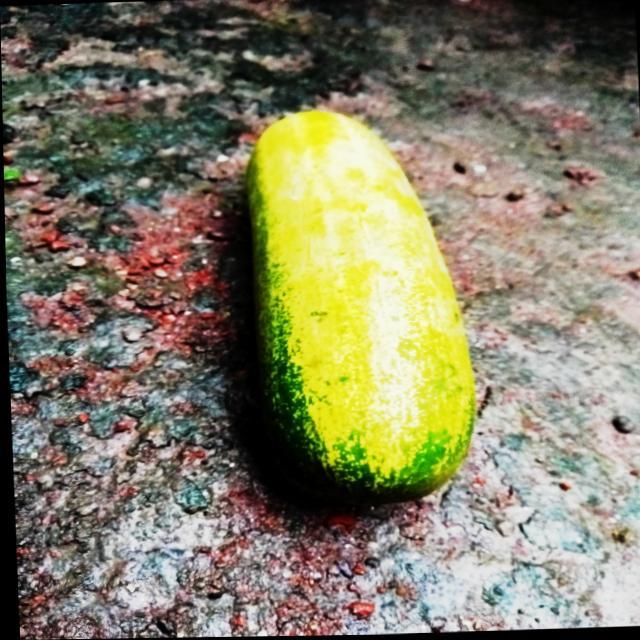Fresh-Cucumber: (239, 100, 479, 512)
